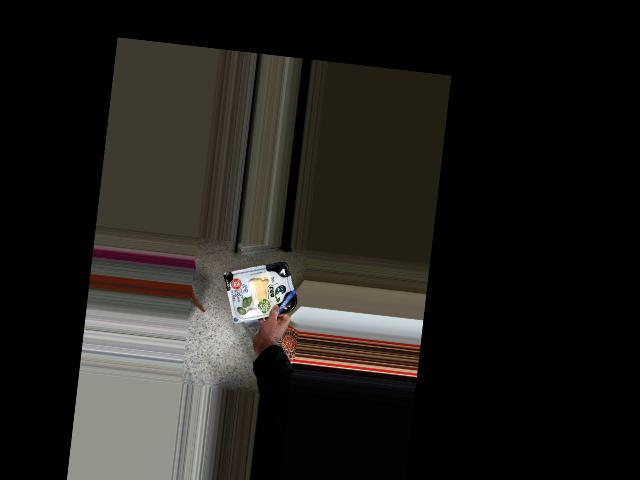cheese: (228, 265, 293, 319)
